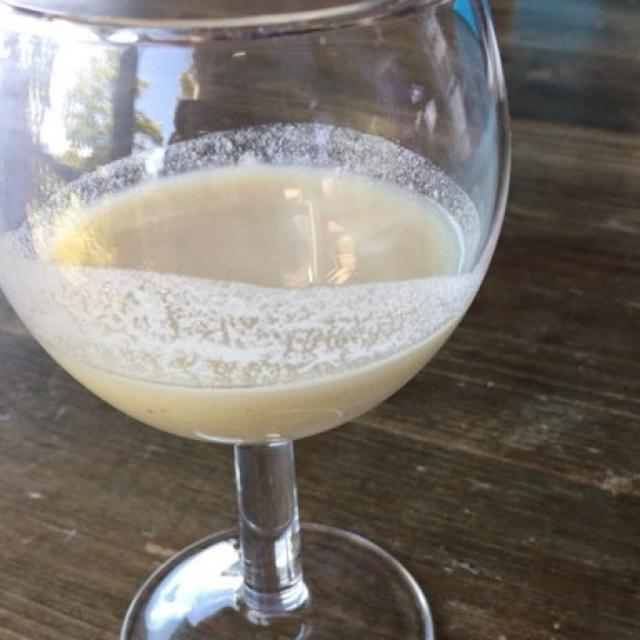cocktail: (30, 148, 461, 409)
